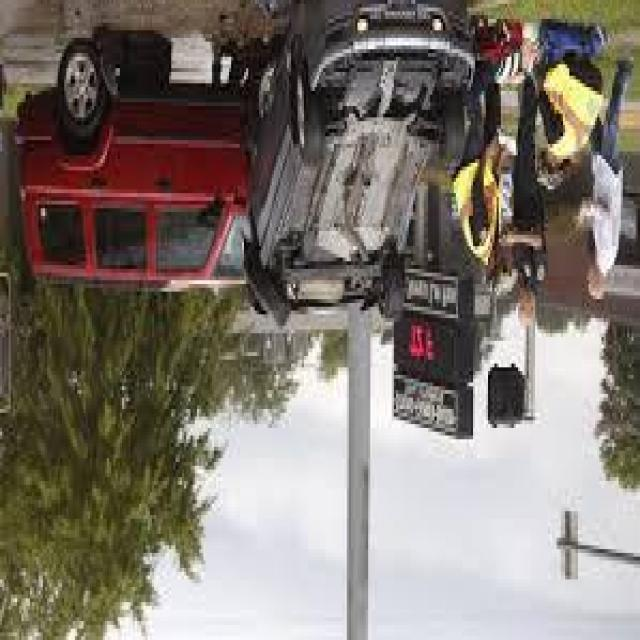severe: (14, 0, 480, 345)
